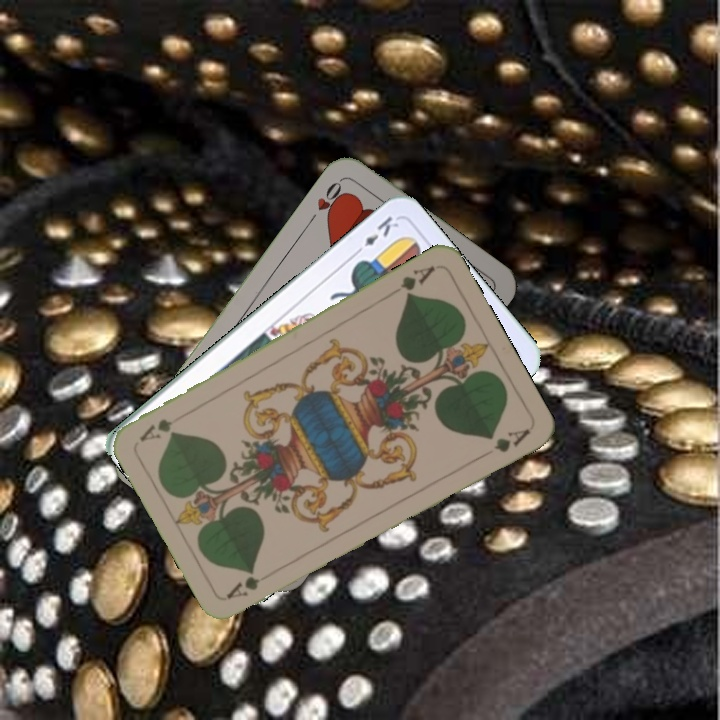EK: (350, 212, 402, 258)
GA: (385, 261, 438, 300), (222, 572, 263, 602)
HO: (304, 176, 349, 227)
